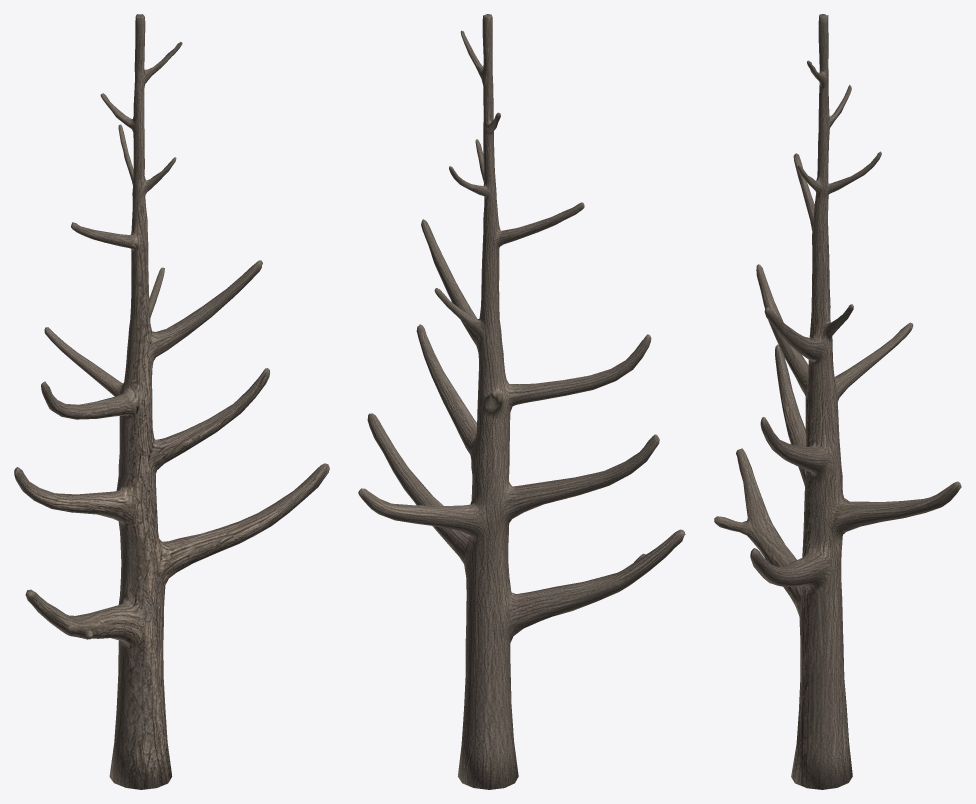
3 views of the same model, side by side, from view 1: azimuth 30°, elevation 25°; view 2: azimuth 150°, elevation 25°; view 3: azimuth 270°, elevation 25° (orthographic).
Parts seen in each view (by area): view 1: mesh_node; view 2: mesh_node; view 3: mesh_node.
Boxes of the visible parts, left/top/right/bottom form: mesh_node: left=14, top=14, right=329, bottom=789; mesh_node: left=358, top=14, right=685, bottom=789; mesh_node: left=714, top=14, right=961, bottom=789.
Size of the model in its own units: 0.8535 by 2 by 0.5898.
Materials: 1 (1 with a texture image).
